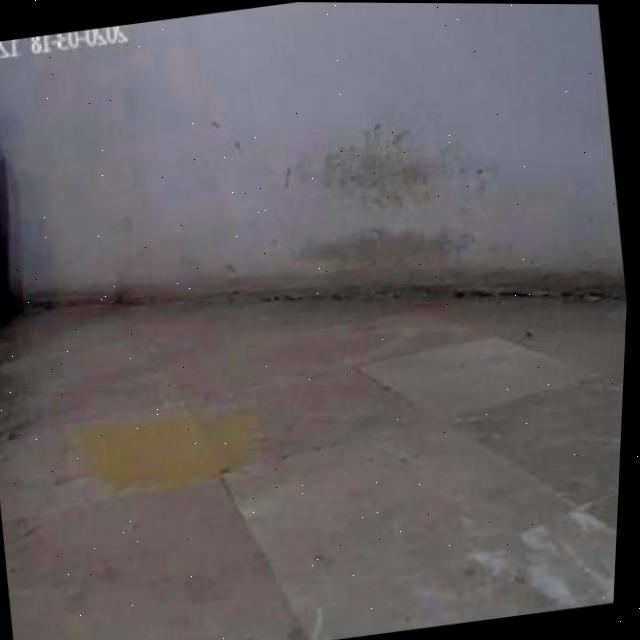spillage: (71, 409, 263, 491)
